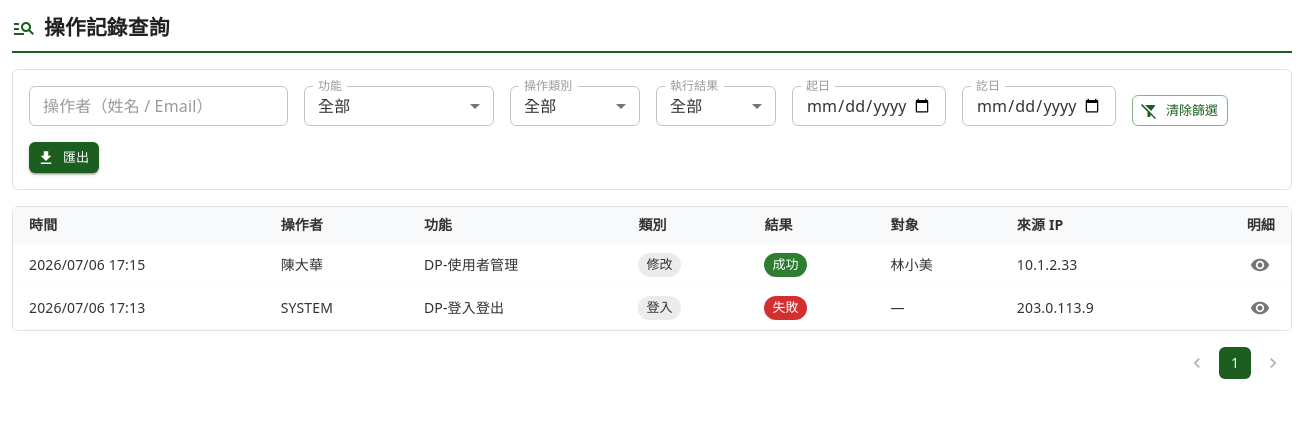
AuditPage 操作記錄查詢（唯讀） › 操作類別 / 執行結果下拉顯示中文選項，不顯示英文碼
Expected: the text "成功" is shown, [772,255,799,273]
Click the dropdown named "操作類別": (540, 106) [524,95,556,117]
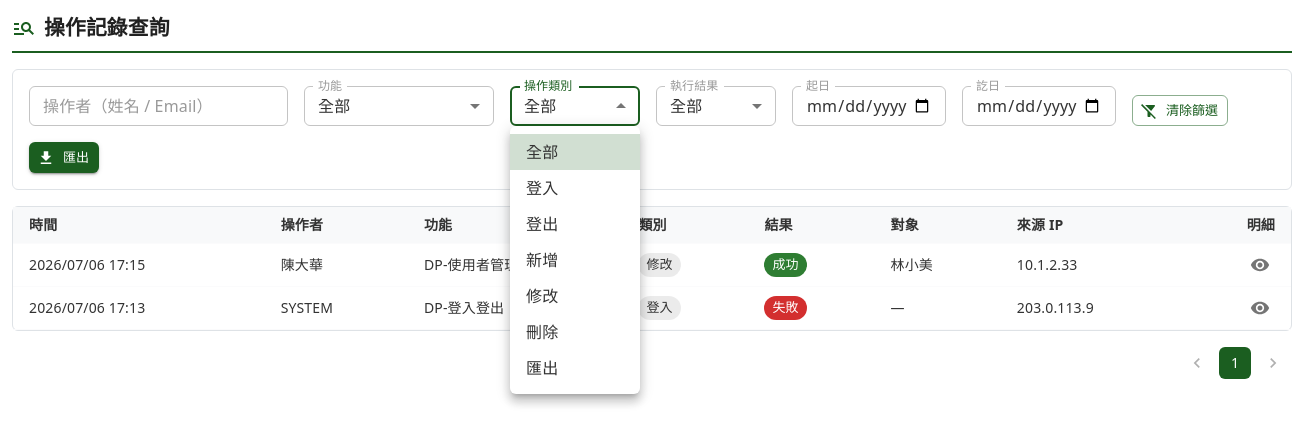
Now the option "登入" is shown, box [526,177,558,199]
Now the option "刪除" is shown, box [526,321,558,343]
Press Escape
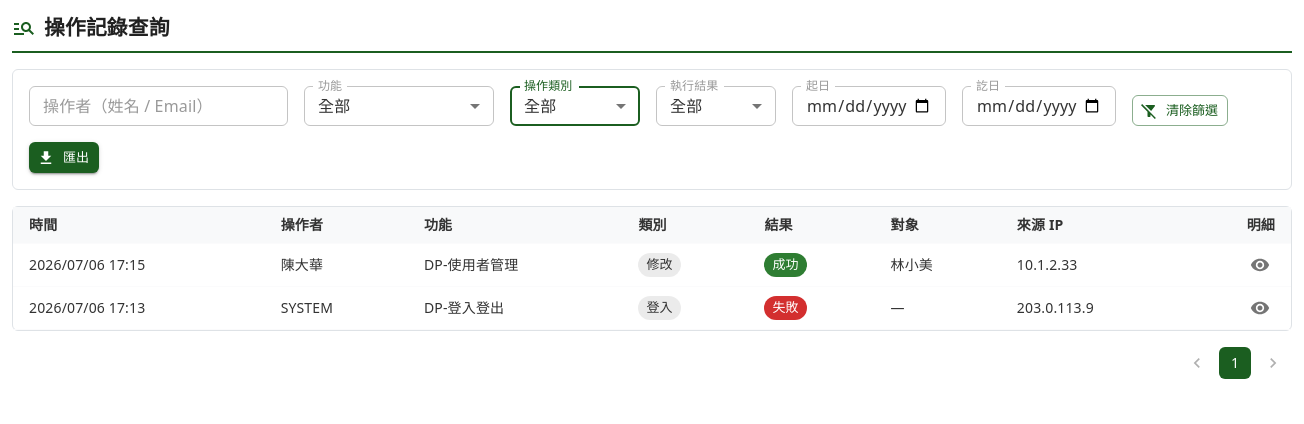
Click the dropdown named "執行結果": (686, 106) [670,95,702,117]
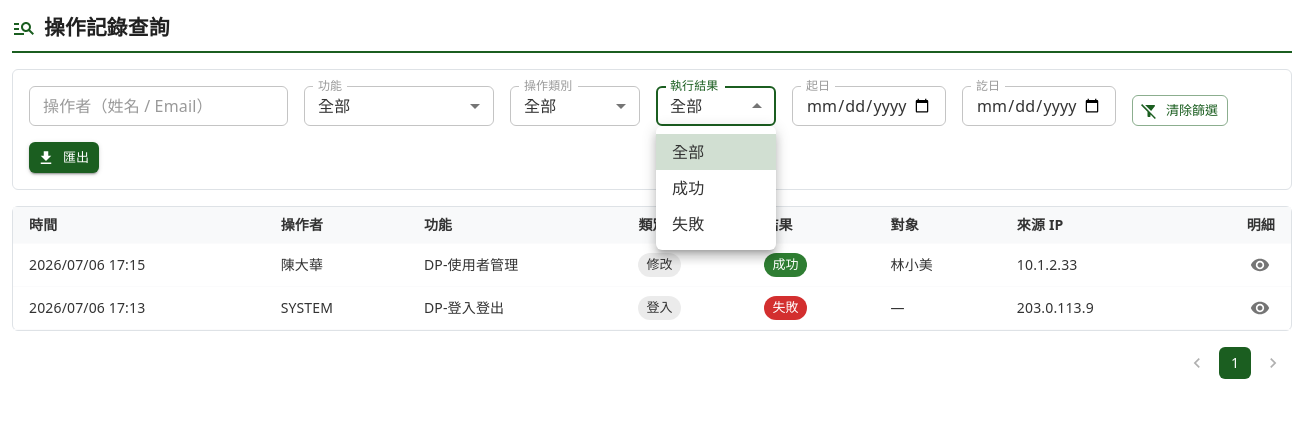
Now the option "失敗" is shown, box [672,213,704,235]
